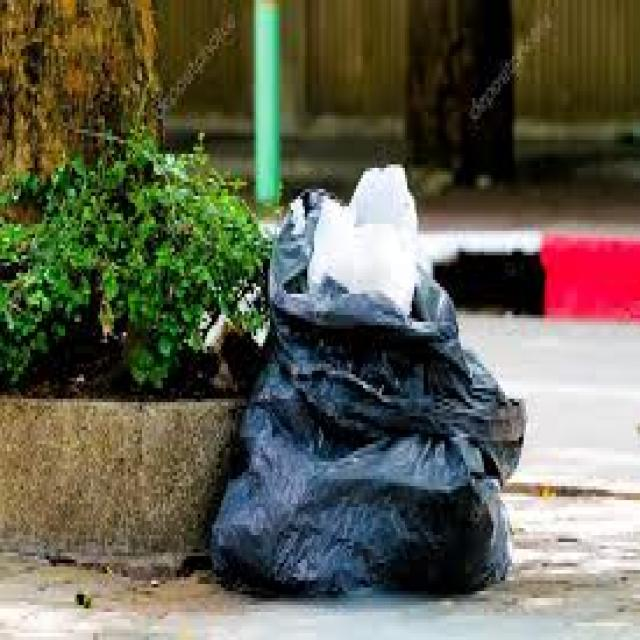plastic_bag: (204, 207, 523, 585)
